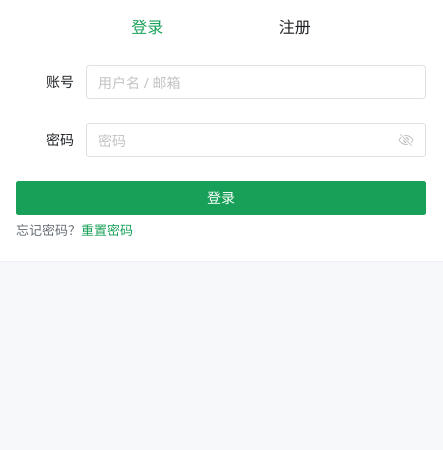
Test: 注册 › 40001 字段级报错映射到对应输入
Click the element with class "n-tabs-tab" showing "注册".
click(295, 27)  # box [279,16,311,38]
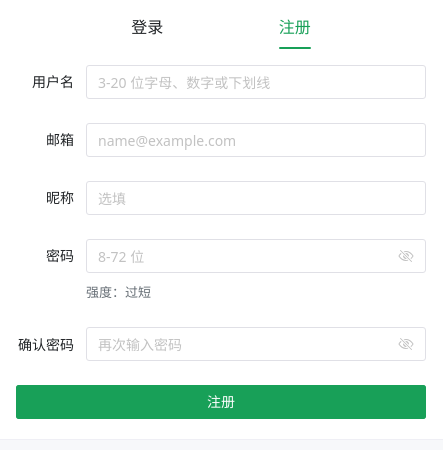
Type "lin" into the field with placeholder "3-20 位字母、数字或下划线".
click(256, 82); type("lin")  # box [98,65,414,99]
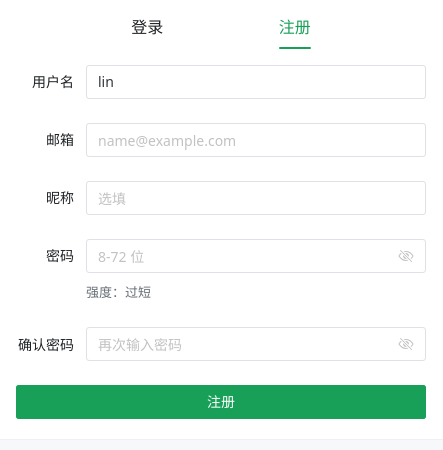
Type "lin@example.com" into the field with placeholder "name@example.com".
click(256, 140); type("lin@example.com")  # box [98,123,414,157]
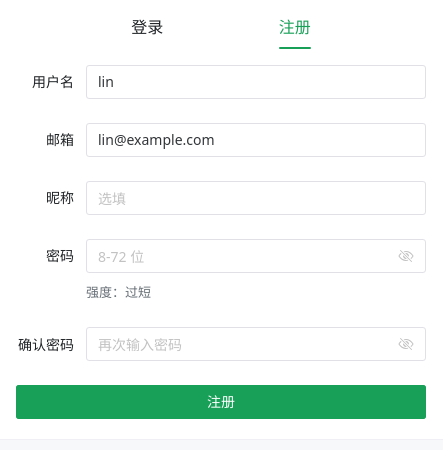
Type "Abcdef12" into the password field with placeholder "8-72 位".
click(246, 256); type("Abcdef12")  # box [98,239,394,273]
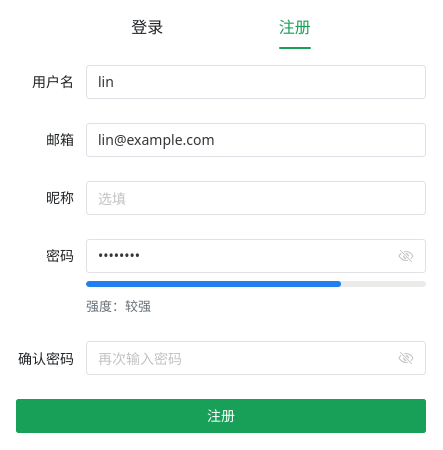
Type "Abcdef12" into the password field with placeholder "再次输入密码".
click(246, 358); type("Abcdef12")  # box [98,341,394,375]
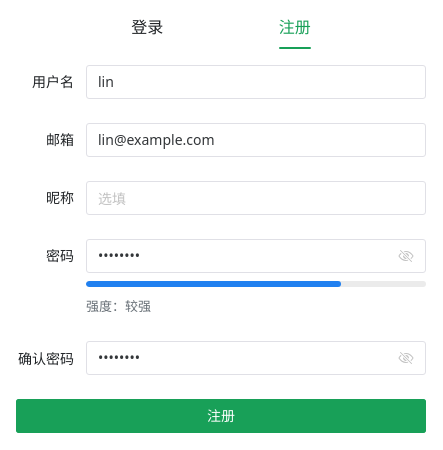
Click the button with test id "register-submit".
click(221, 416)  # box [16,399,426,433]
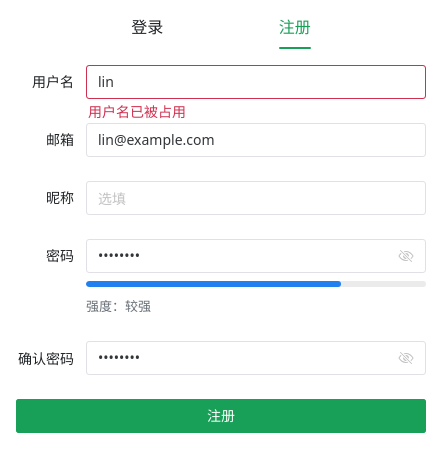
Now the text "用户名已被占用" is shown, box [88,102,186,121]
